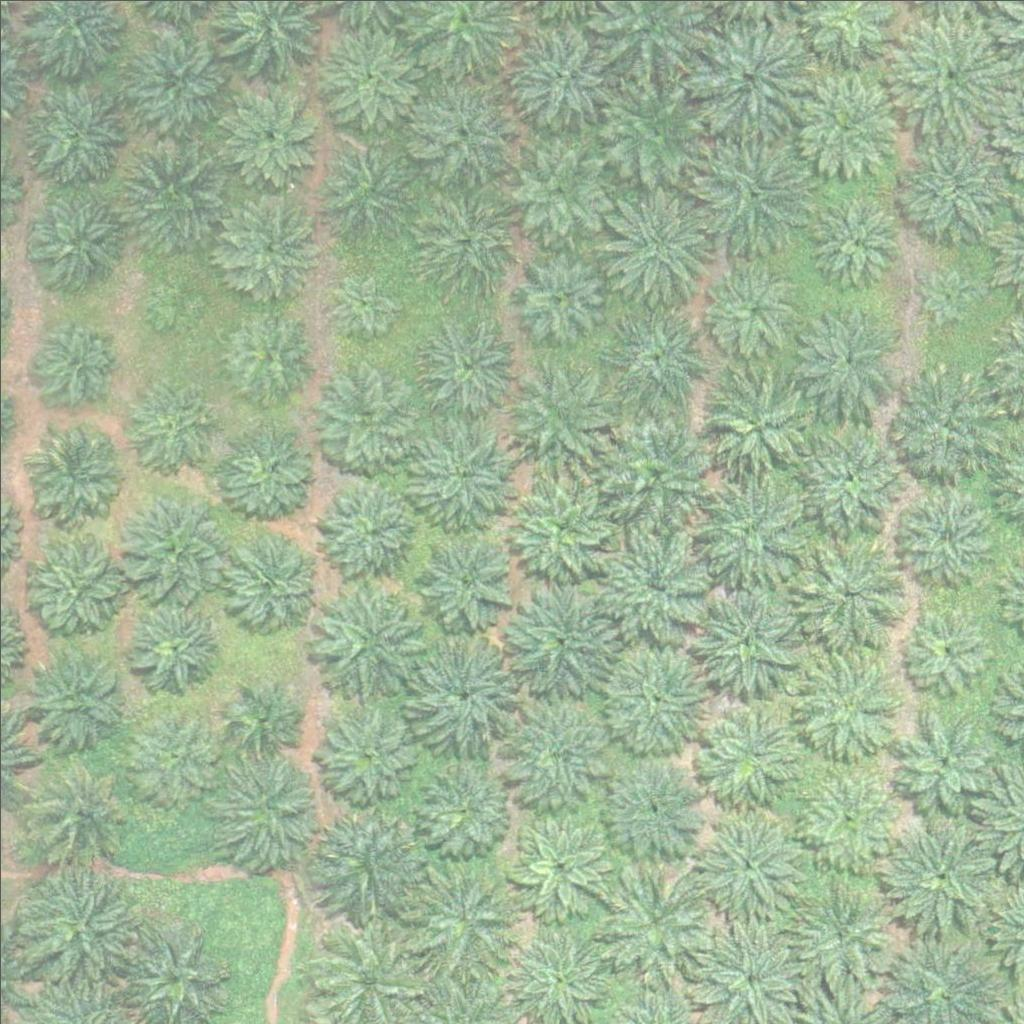Kelapa_Sawit: (210, 751, 323, 865), (18, 530, 131, 644), (120, 491, 233, 605), (601, 77, 714, 191), (695, 141, 808, 255), (789, 297, 902, 411), (884, 817, 997, 930), (788, 645, 901, 758), (796, 536, 909, 649), (596, 866, 709, 979), (599, 752, 712, 865), (496, 698, 609, 811), (504, 588, 617, 701), (19, 181, 132, 294), (403, 413, 516, 526), (502, 467, 615, 580), (691, 468, 804, 581), (700, 369, 813, 482), (695, 20, 808, 133), (791, 417, 904, 530), (410, 865, 522, 979), (310, 812, 422, 926), (313, 697, 425, 811), (507, 16, 619, 130), (890, 362, 1002, 476), (784, 875, 896, 988), (694, 805, 806, 918), (689, 581, 801, 694), (601, 638, 713, 751), (600, 526, 712, 639), (409, 645, 521, 758), (311, 580, 423, 693), (21, 868, 133, 981), (16, 637, 128, 750), (19, 73, 131, 186), (118, 144, 230, 257), (120, 22, 232, 135), (408, 72, 520, 185), (501, 356, 613, 469), (598, 416, 710, 529), (602, 304, 714, 417), (600, 192, 712, 305), (789, 65, 901, 178), (895, 131, 1007, 244), (893, 18, 1005, 131), (23, 759, 123, 860), (896, 712, 996, 813), (800, 766, 900, 867), (700, 706, 800, 807), (510, 819, 610, 920), (415, 528, 515, 629), (116, 374, 216, 475), (218, 425, 318, 526), (214, 306, 314, 407), (222, 198, 322, 299), (222, 87, 322, 188), (318, 480, 418, 581), (317, 368, 417, 469), (315, 142, 415, 243), (317, 26, 417, 127), (417, 319, 517, 420), (420, 186, 520, 287), (507, 242, 607, 343), (507, 139, 607, 240), (893, 484, 993, 584), (414, 763, 514, 863), (225, 530, 325, 630), (123, 707, 223, 807), (126, 595, 226, 695), (26, 420, 126, 520), (703, 261, 803, 361), (805, 192, 905, 292), (900, 606, 987, 694), (33, 316, 120, 404), (227, 685, 302, 761), (329, 262, 404, 337), (145, 270, 207, 333), (916, 265, 978, 328)
